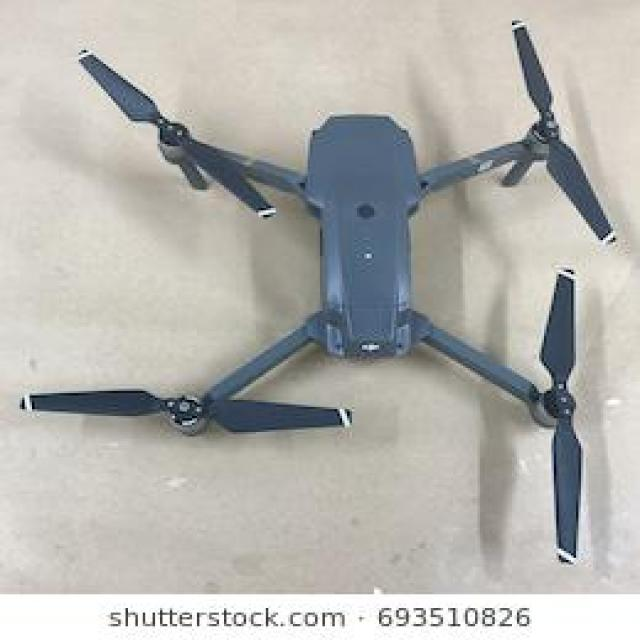drone: (7, 0, 640, 569)
